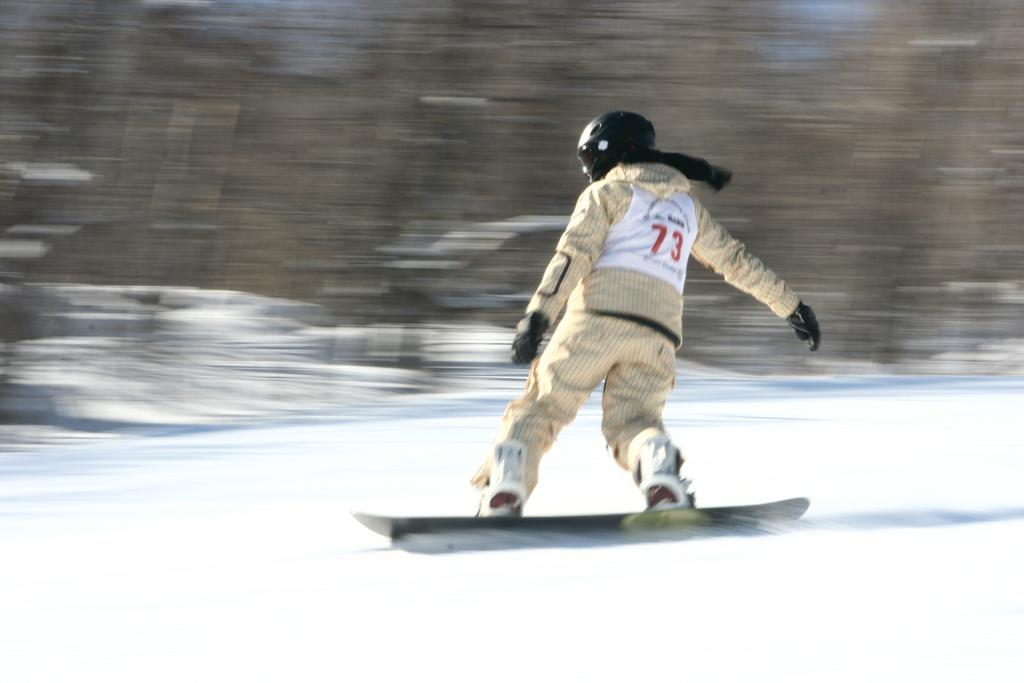helmet: (576, 110, 656, 184)
